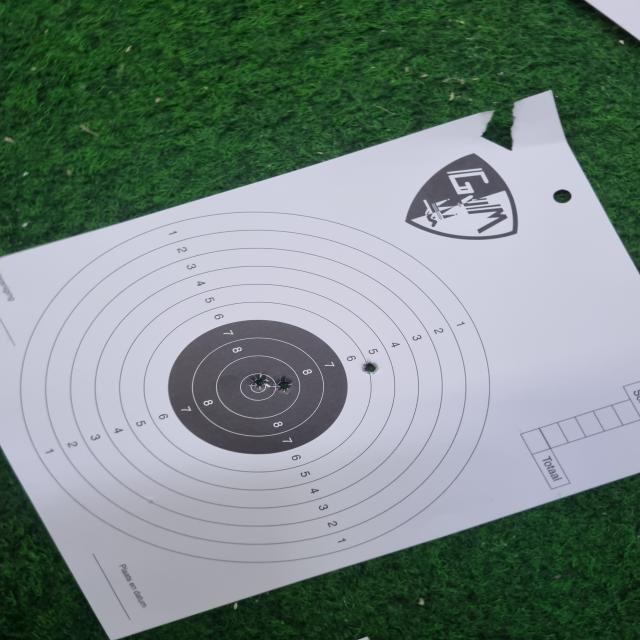10: (273, 375, 294, 394), (248, 374, 270, 389)
6: (361, 360, 379, 374)
Target: (19, 211, 490, 564)
black_contour: (169, 320, 349, 456)
